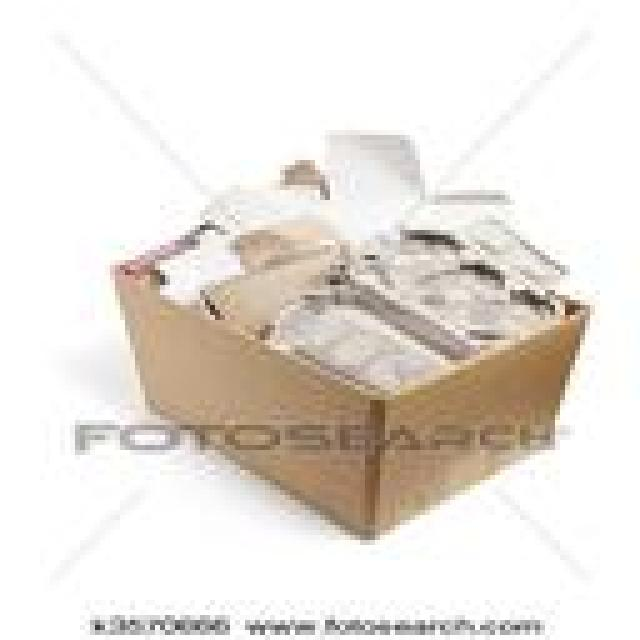cardboard: (110, 200, 585, 530), (335, 215, 560, 360), (265, 275, 480, 400), (195, 235, 350, 340), (225, 210, 350, 275), (320, 125, 420, 195), (145, 225, 225, 290), (210, 200, 275, 240), (270, 150, 315, 195), (425, 190, 495, 205)
